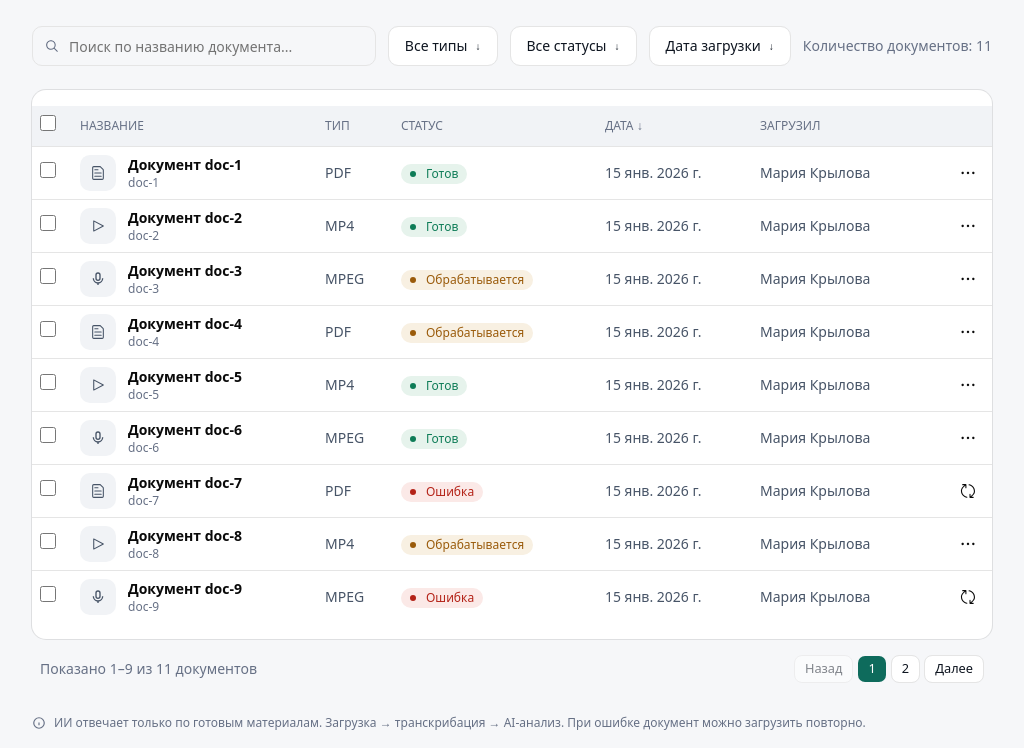
Test: DocumentsPage — интеграционные тесты › переключает страницы и отображает документы текущей страницы
(page scrolled)
Expected: the link "Документ doc-1" is shown, [128,154,242,174]
Expected: the link "Документ doc-9" is shown, [128,578,242,598]
Click the button "Далее" at (954, 668), box [924,654,984,682]
(page scrolled)
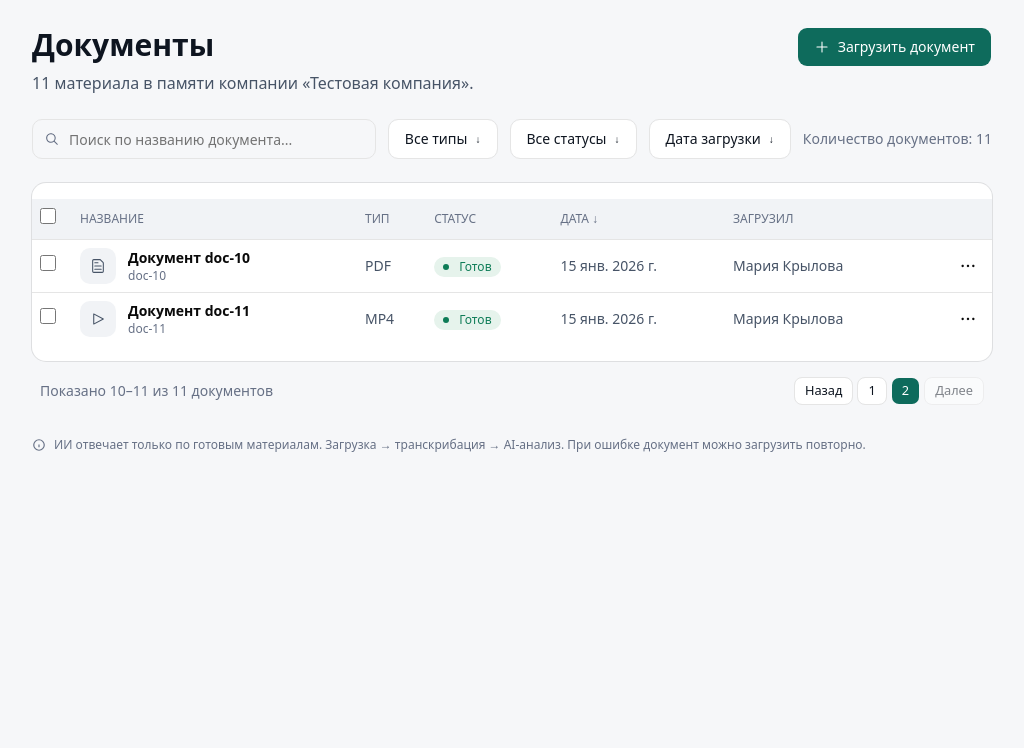
Expected: the link "Документ doc-10" is shown, [128,248,250,266]
Expected: the link "Документ doc-11" is shown, [128,300,250,320]
Expected: the text "Показано 10–11 из 11 документов" is shown, [40,380,273,400]
Click the button "Назад" at (824, 390), box [794,376,853,404]
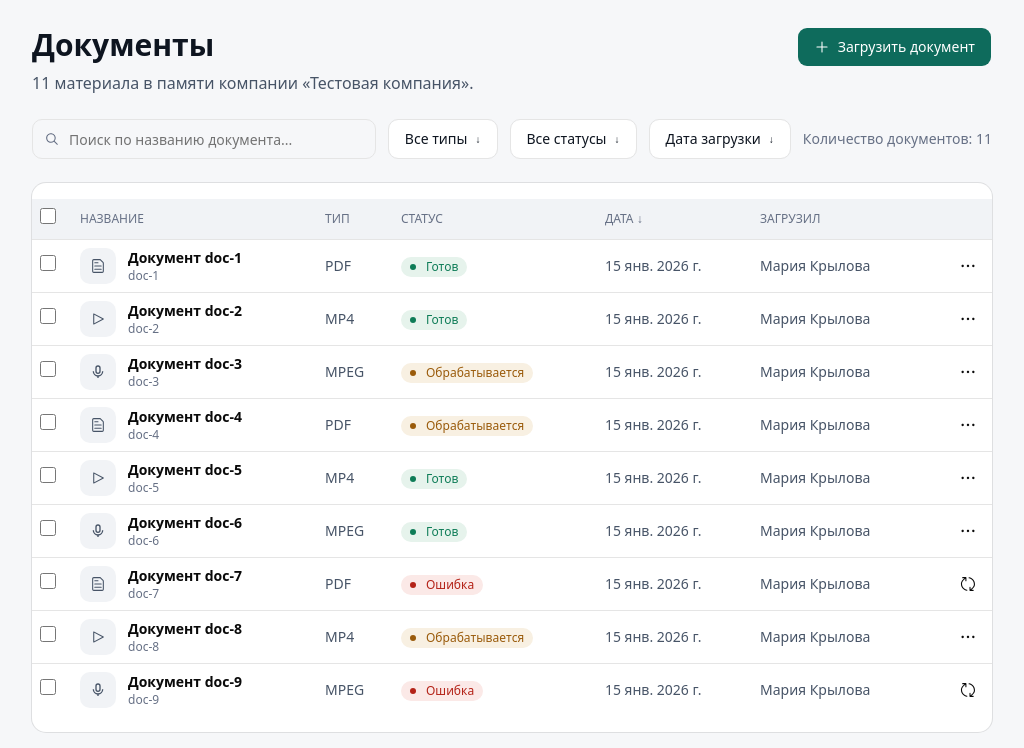
Expected: the link "Документ doc-1" is shown, [128,248,242,266]
Expected: the link "Документ doc-10" is gone
